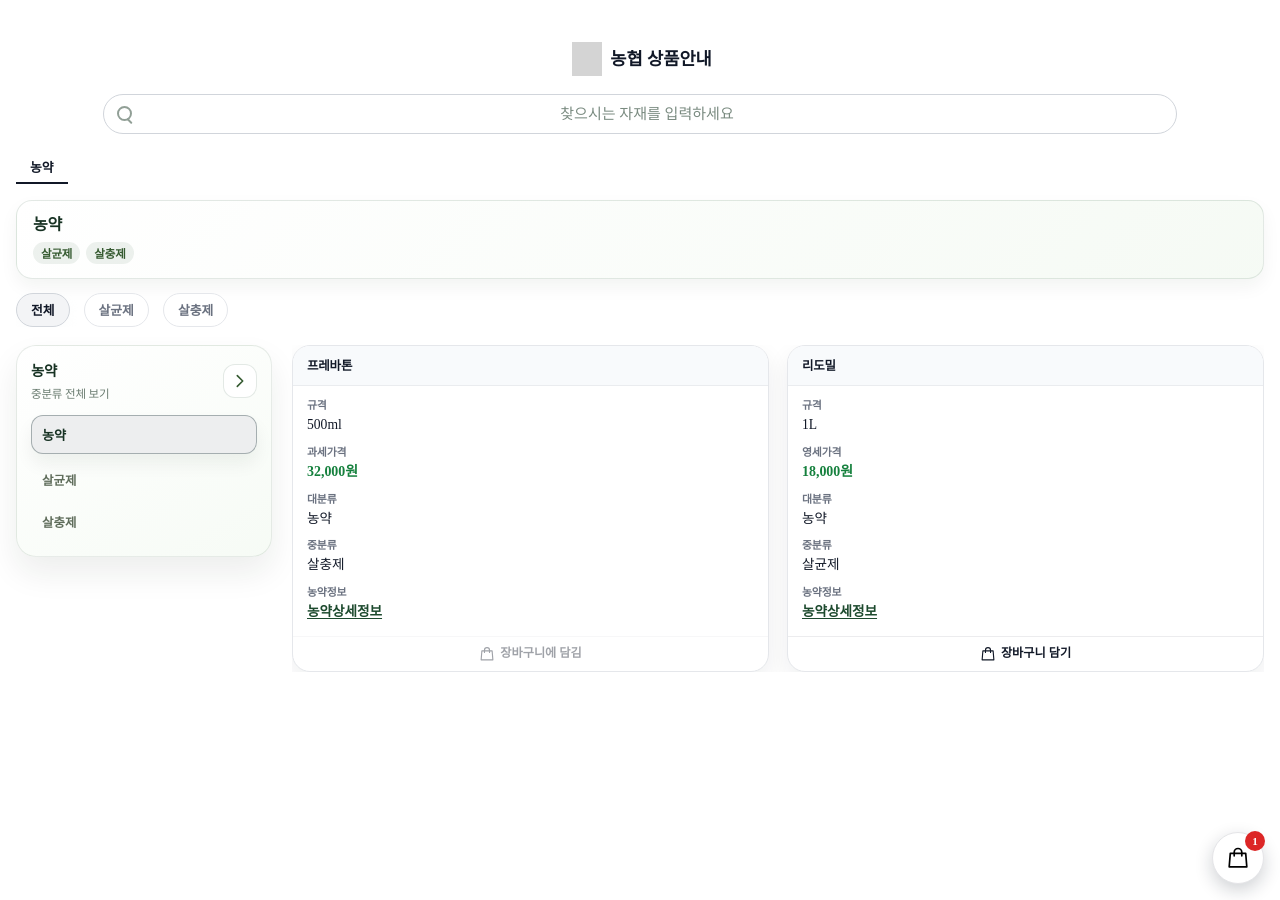
Test case: storefront cart — panel › shows the count on the open button and lists what was added
This screenshot has width=1280, height=900.
Click the button with test id "storefront-cart-open". click: (1238, 858)
box: 1212,832 -> 1264,884
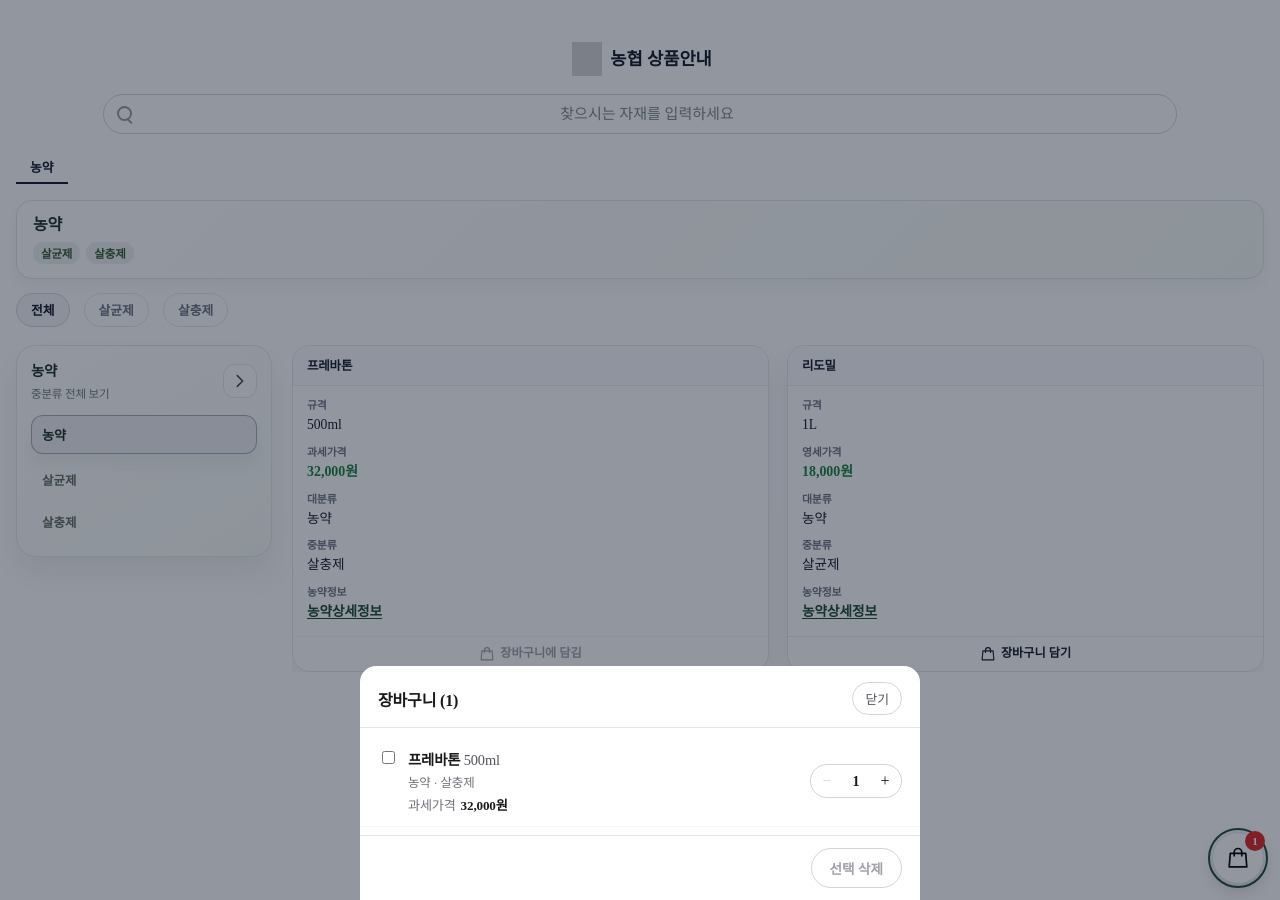
Expected: the text "프레바톤" is shown, 408,752 -> 460,768
Expected: the text "500ml" is shown, 460,752 -> 500,768
Expected: the text "농약 · 살충제" is shown, 408,776 -> 474,790
